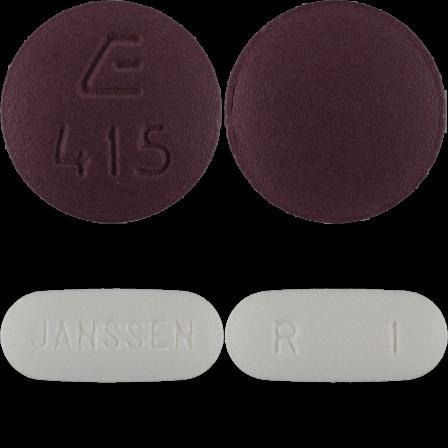61786-703: (0, 0, 224, 224)
